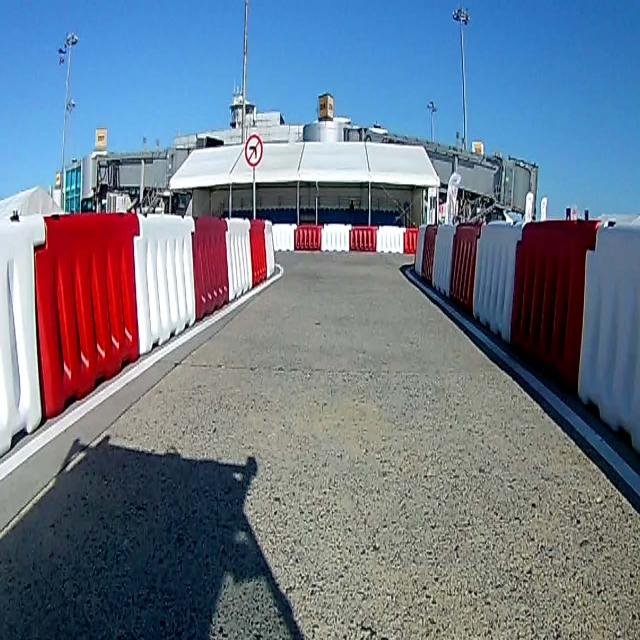soladonulmez: (245, 135, 263, 165)
